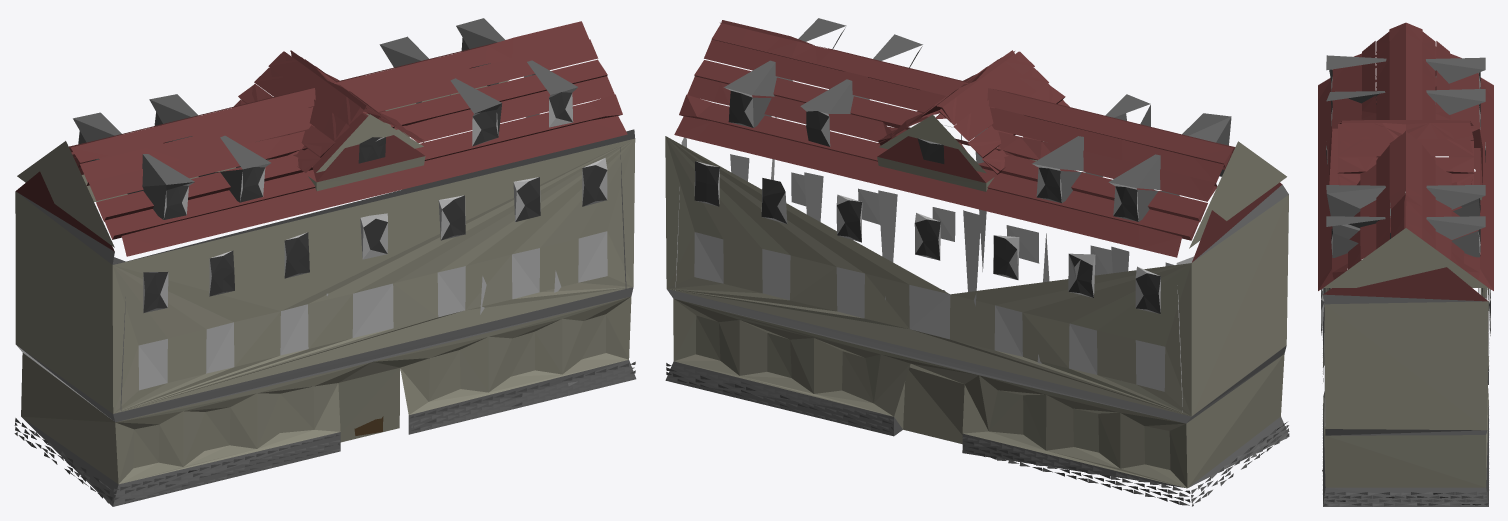
Rendered from city-long.glb.
3 renders of one model, left to right at view 1: azimuth 30°, elevation 25°; view 2: azimuth 150°, elevation 25°; view 3: azimuth 270°, elevation 25°, orthographic. The views are drawn at different scales.
Parts seen in each view (by area): view 1: Building1_Large_Cube; view 2: Building1_Large_Cube; view 3: Building1_Large_Cube.
Boxes of the visible parts, bbox=[...] form: Building1_Large_Cube: bbox=[14, 18, 636, 506]; Building1_Large_Cube: bbox=[665, 18, 1289, 506]; Building1_Large_Cube: bbox=[1318, 22, 1493, 506].
Bounding box in the file's own units: 17.1 × 10.25 × 5.88.
